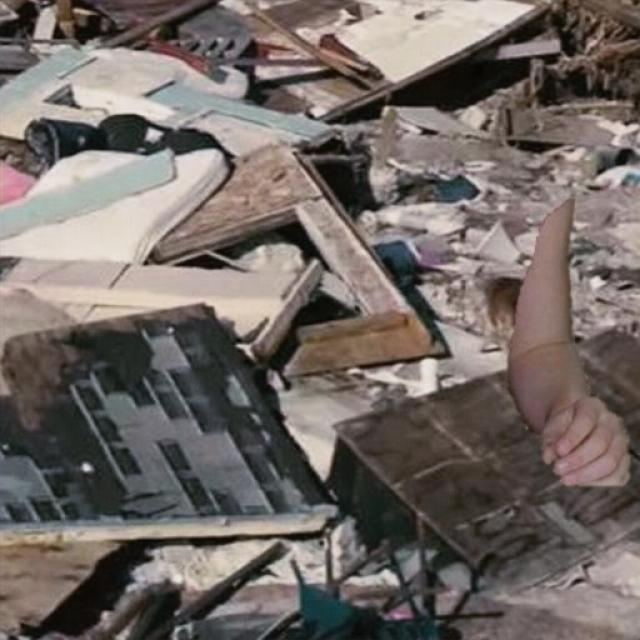Person in Rubble: (508, 199, 630, 485)
